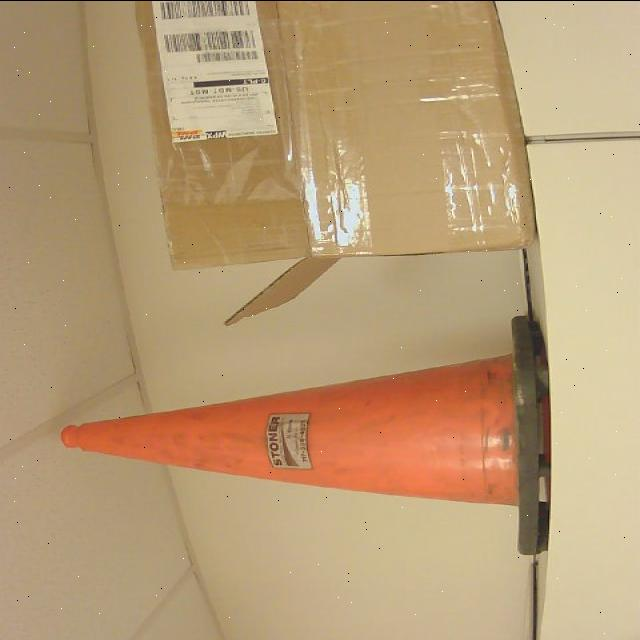traffic cone: (62, 315, 553, 558)
